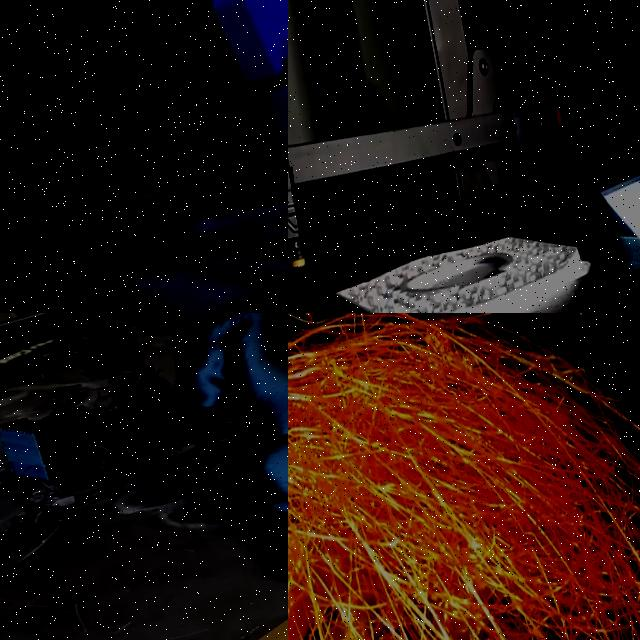spaghetti: (288, 313, 640, 640), (5, 313, 242, 510)
